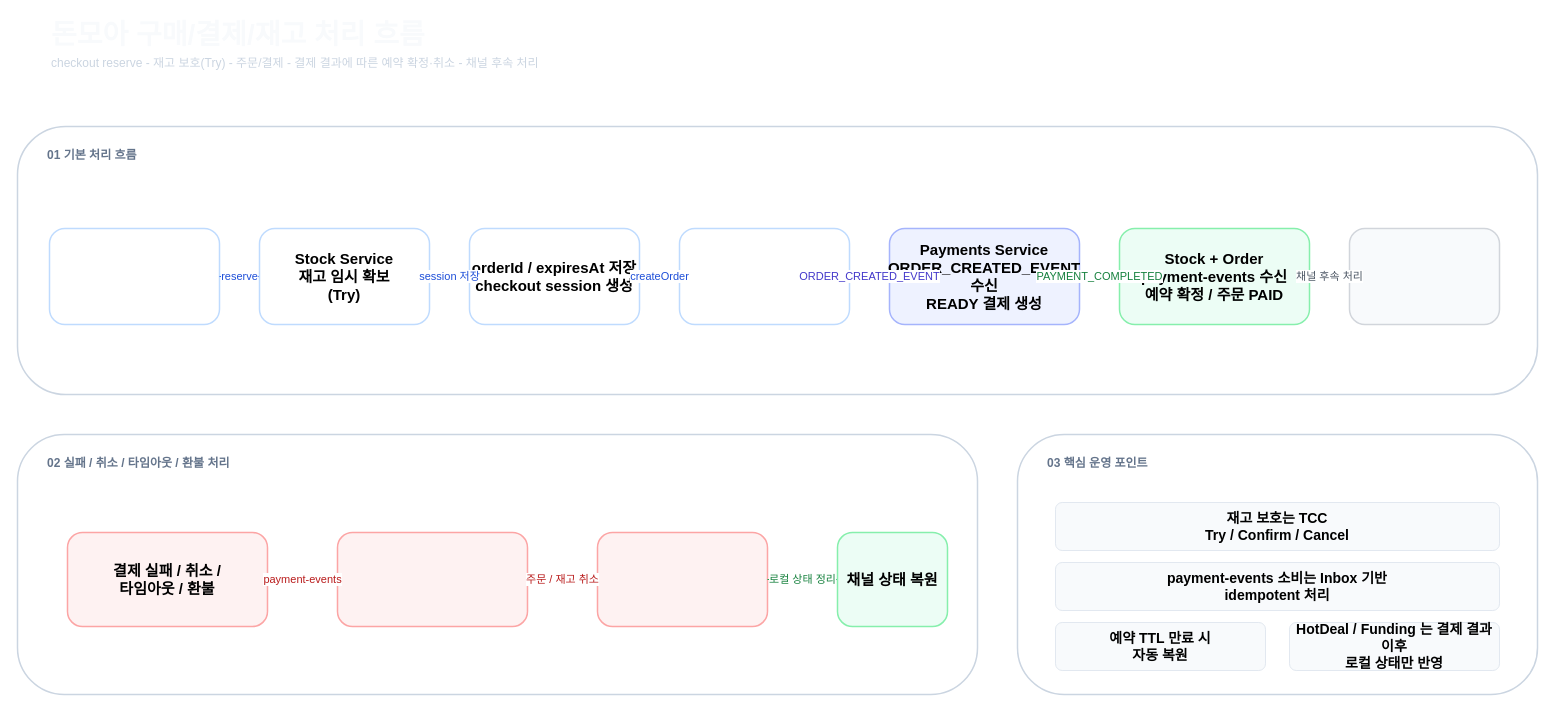
The diagram is 1556 pixels wide and 712 high, and some of its shapes have lost their labels. The shapes that lost their labels are listed below. From the top down, each one's centre as x and y in pixels, then its label:
point (134, 276): Checkout Service reserve 시작
point (764, 276): Order Service 주문 생성
point (1424, 276): 채널 후속 처리 HotDeal / Funding
point (432, 579): Stock Service 예약 취소 + 재고 복원
point (682, 579): Order Service 주문 CANCELLED / REFUNDED
